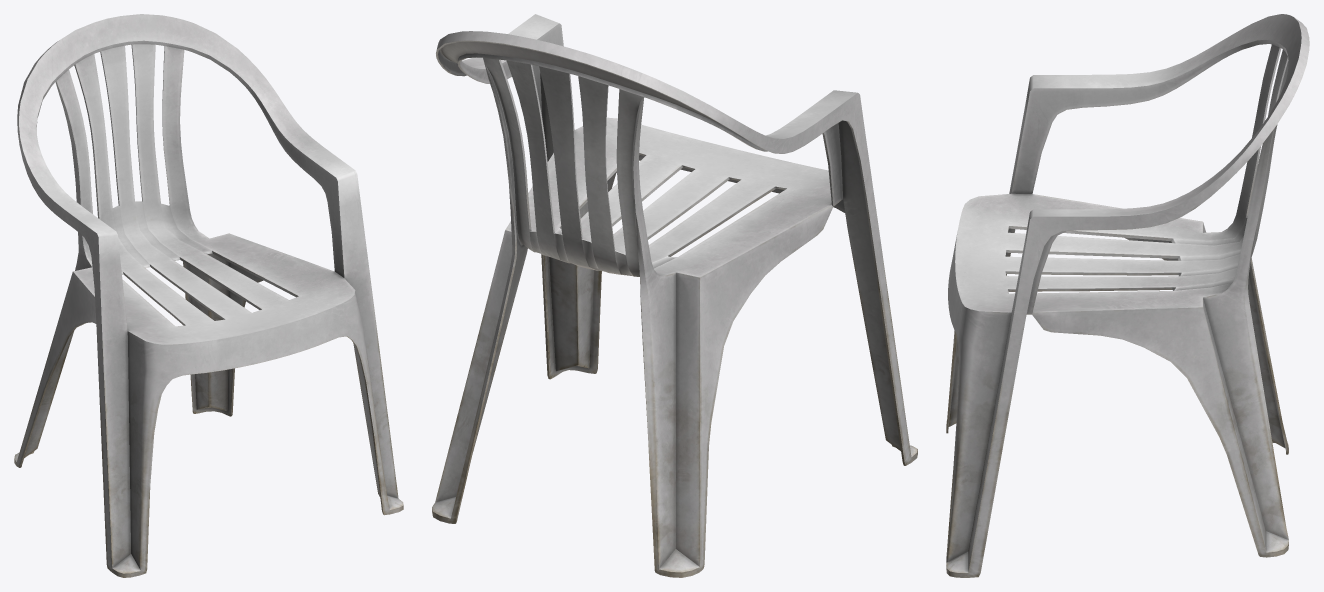
The model's file is plastic_monobloc_chair.glb.
The picture shows the model from 3 angles, left to right: view 1: azimuth 30°, elevation 25°; view 2: azimuth 150°, elevation 25°; view 3: azimuth 270°, elevation 25°; orthographic projection. The views are drawn at different scales.
Parts seen in each view (by area): view 1: plastic_monobloc_chair; view 2: plastic_monobloc_chair; view 3: plastic_monobloc_chair.
Part boxes in pixels (box(x1,y1,x2,y2)): plastic_monobloc_chair: box(14, 14, 403, 577); plastic_monobloc_chair: box(432, 14, 917, 577); plastic_monobloc_chair: box(946, 14, 1309, 577).
Bounding box in the file's own units: 0.6419 × 0.8798 × 0.6276.
Materials: 1 (1 with a texture image).
